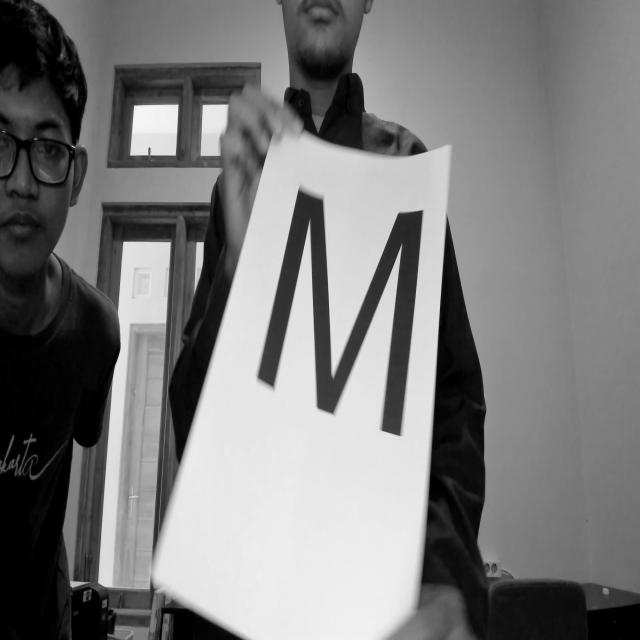m: (247, 178, 429, 472)
